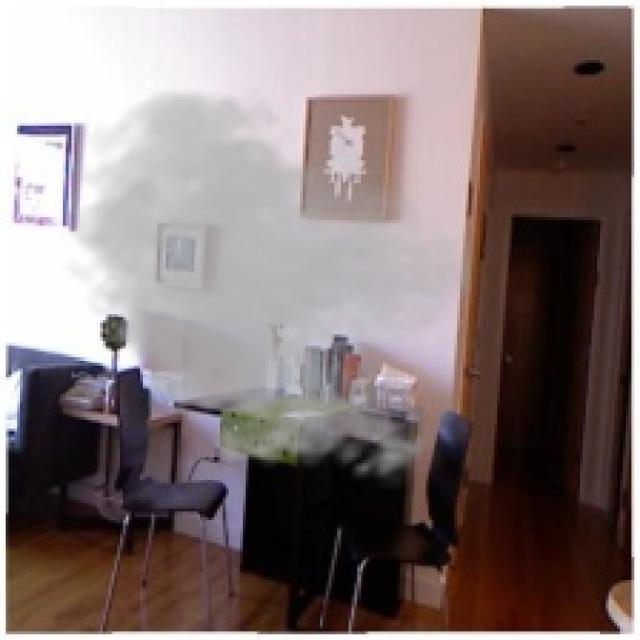Smoke: (57, 80, 474, 492)
